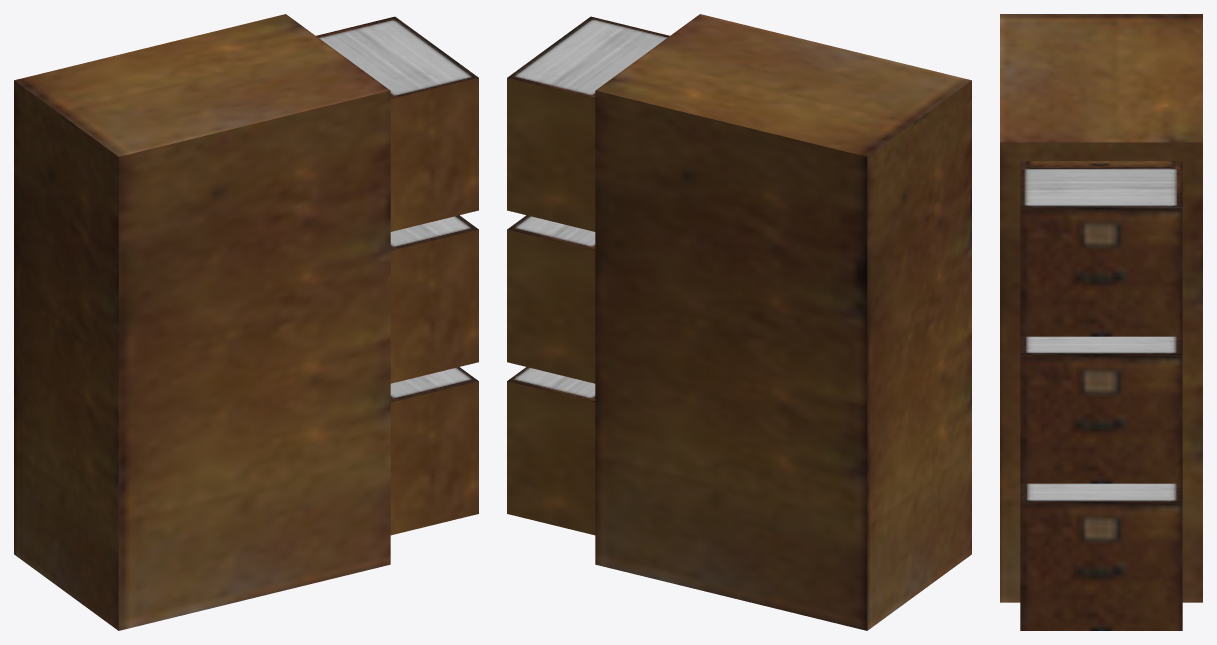
The model's file is schedario.glb.
3 renders of one model, left to right at view 1: azimuth 30°, elevation 25°; view 2: azimuth 150°, elevation 25°; view 3: azimuth 270°, elevation 25°, orthographic. The views are drawn at different scales.
Parts seen in each view (by area): view 1: Cube, Cube.003, Cube.002, Cube.001; view 2: Cube, Cube.003, Cube.002, Cube.001; view 3: Cube, Cube.003, Cube.001, Cube.002.
Part boxes in pixels (box(x1,y1,x2,y2)): Cube: box(14, 14, 390, 630); Cube.003: box(316, 16, 478, 231); Cube.002: box(390, 215, 478, 383); Cube.001: box(390, 367, 478, 535); Cube: box(595, 14, 971, 630); Cube.003: box(507, 16, 669, 231); Cube.002: box(507, 215, 595, 383); Cube.001: box(507, 367, 595, 535); Cube: box(1000, 14, 1202, 602); Cube.003: box(1020, 161, 1182, 336); Cube.001: box(1020, 483, 1182, 630); Cube.002: box(1020, 336, 1182, 483).
Size of the model in its own units: 2.05 by 2.5 by 1.
Materials: 4 (4 with a texture image).
